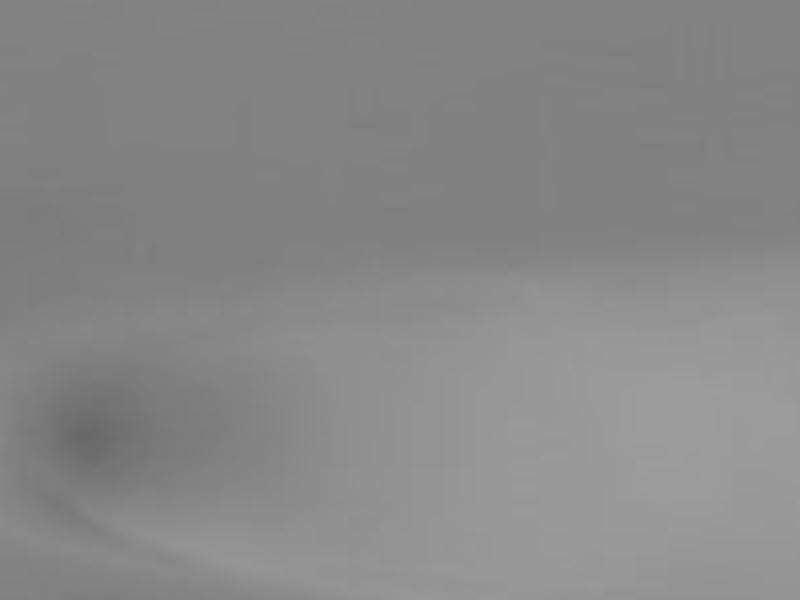defect: (49, 383, 154, 485)
